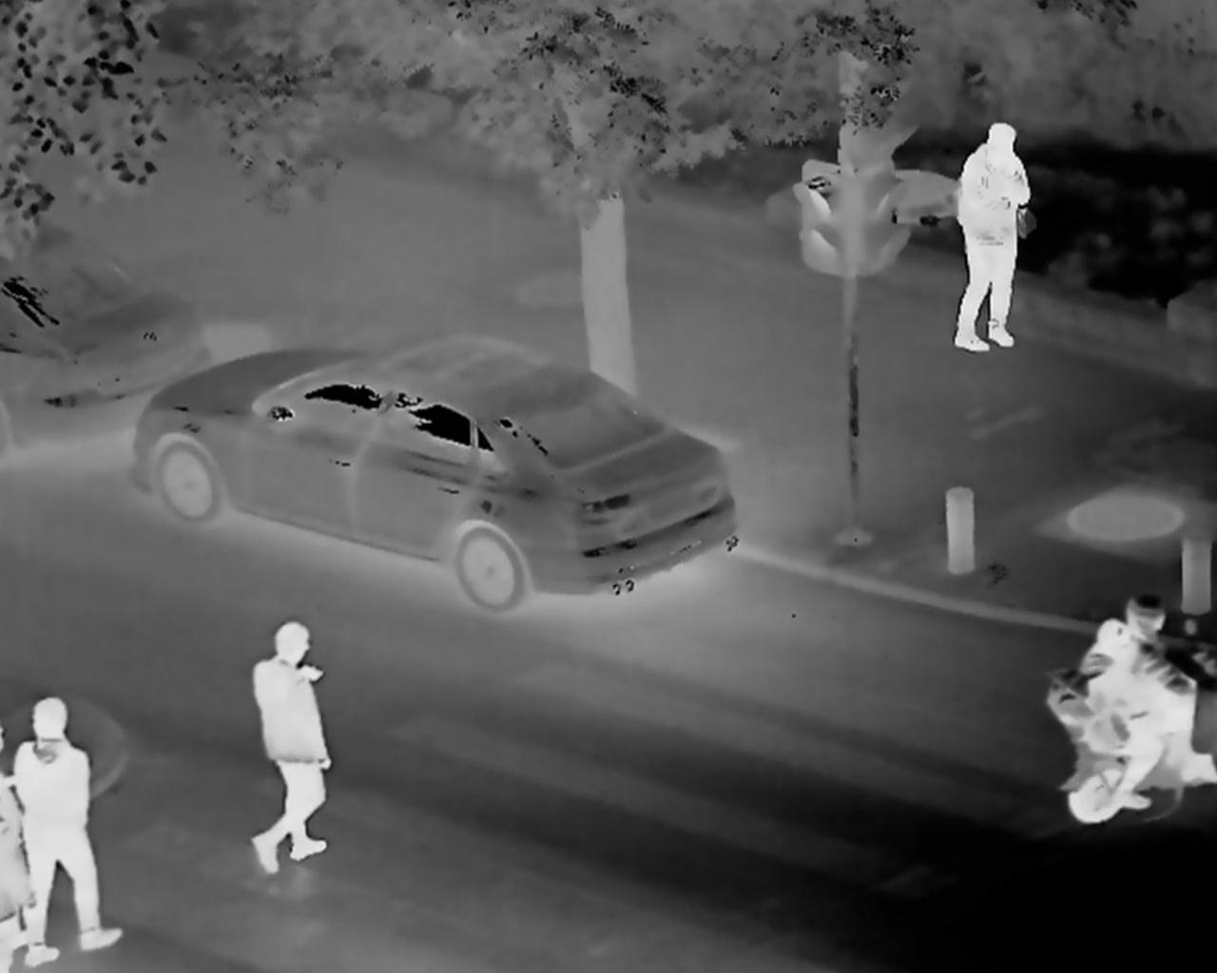person: (20, 696, 135, 968), (940, 117, 1043, 385), (250, 620, 352, 884), (1072, 584, 1201, 783)
